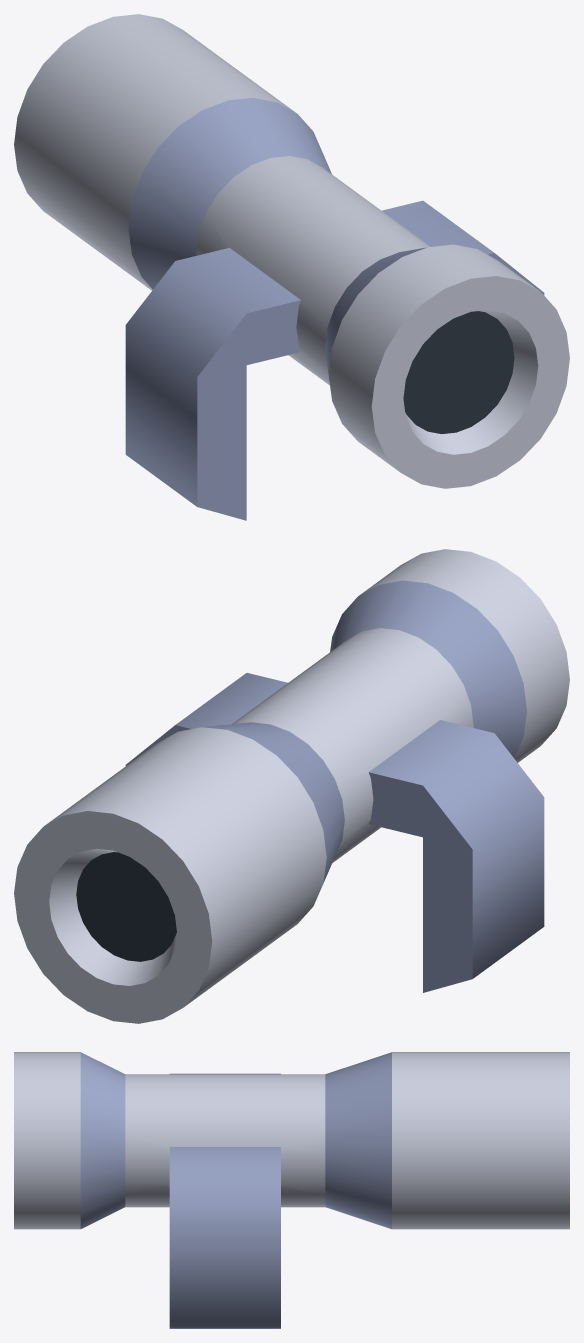
The model's file is scopeA.fbx.
3 views of the same model, one above another, from view 1: azimuth 30°, elevation 25°; view 2: azimuth 150°, elevation 25°; view 3: azimuth 270°, elevation 25° (orthographic). The views are drawn at different scales.
Visible parts, largest first — view 1: scopeA; view 2: scopeA; view 3: scopeA.
Part boxes in pixels (x1,y1,x2,y2): scopeA: (14,14,569,520); scopeA: (14,549,569,1023); scopeA: (14,1052,569,1328).
Bounding box in the file's own units: 1.4 × 1.1 × 2.5.
